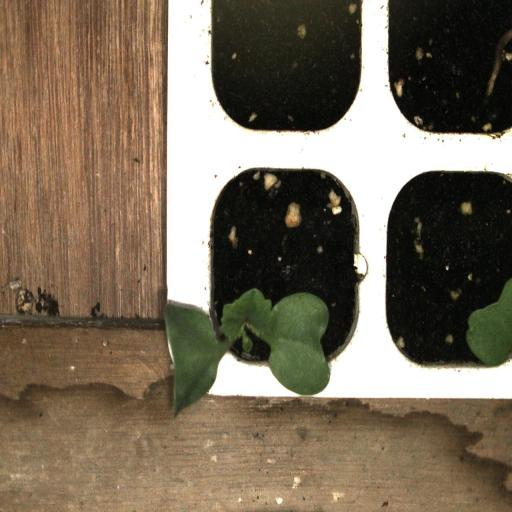noseedling: (184, 2, 373, 145)
seedling: (185, 152, 374, 383)
